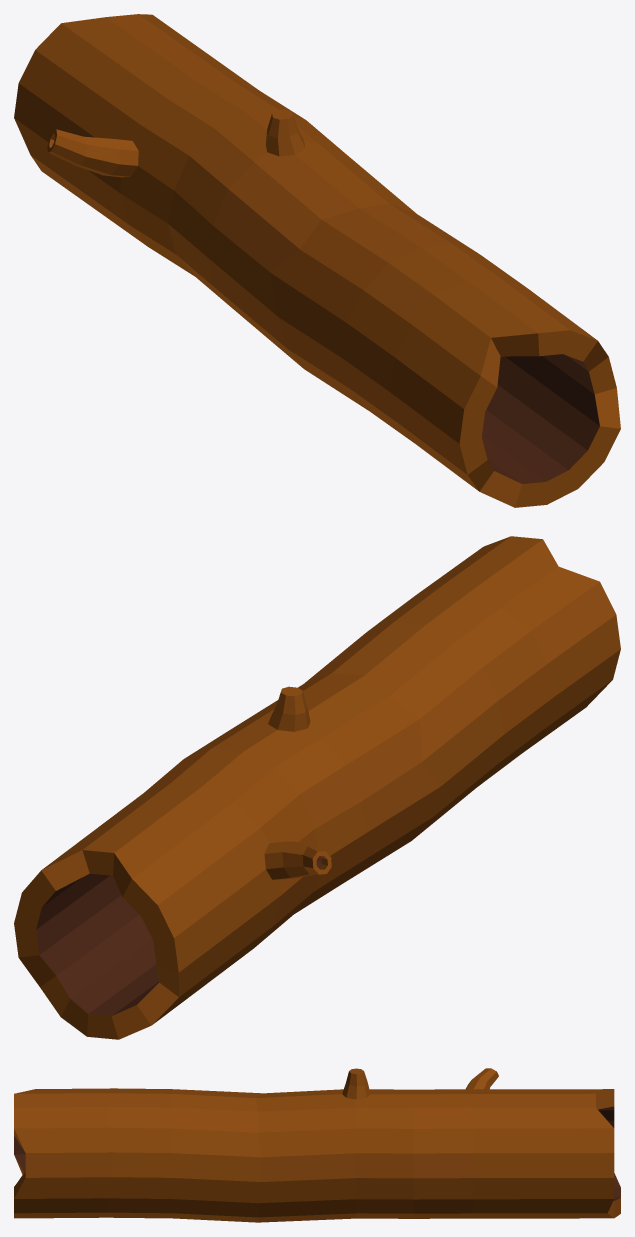
File: log.fbx
3 views of the same model, one above another, from view 1: azimuth 30°, elevation 25°; view 2: azimuth 150°, elevation 25°; view 3: azimuth 270°, elevation 25° (orthographic). The views are drawn at different scales.
Visible parts, largest first — view 1: log; view 2: log; view 3: log.
Part boxes in pixels (box(x1,y1,x2,y2)): log: box(14, 14, 620, 507); log: box(14, 536, 620, 1039); log: box(14, 1068, 620, 1222).
Bounding box in the file's own units: 252 × 224 × 857.
